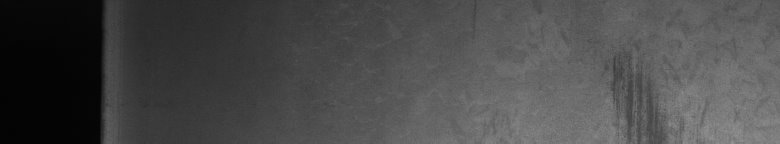ka: (605, 54, 653, 136)
